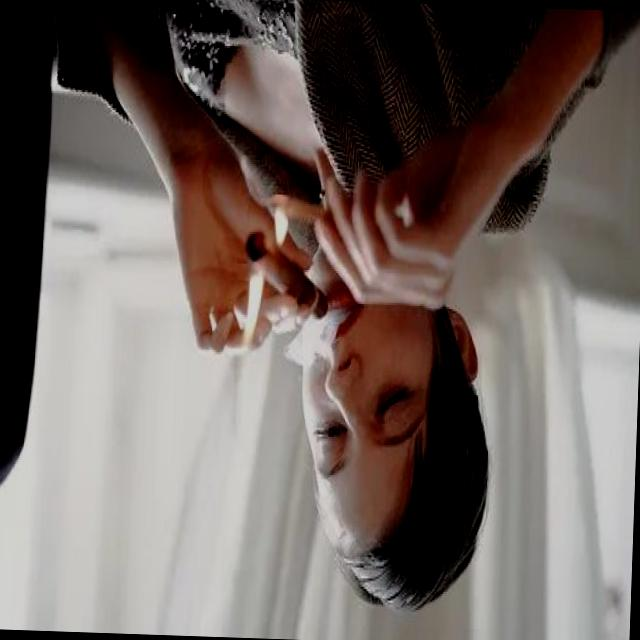smoke: (240, 214, 332, 330)
